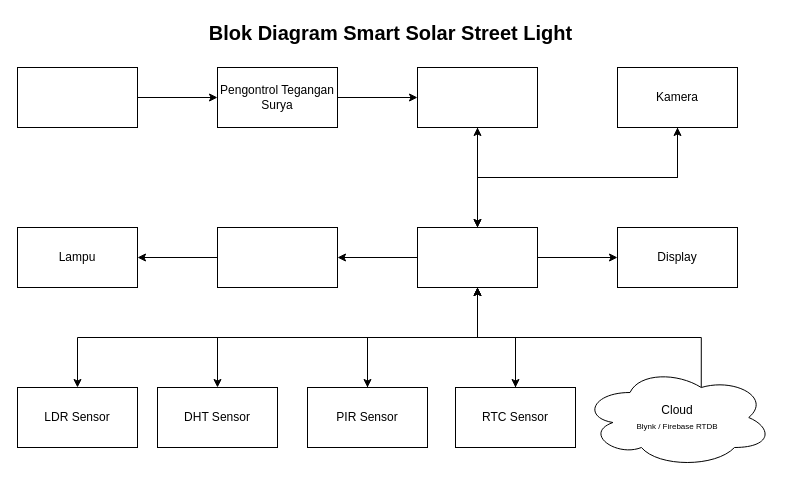
Some shapes in this 790 by 485 pixel diagram are drawn without their labels. Each missing label, with the centre of its shape:
Baterai: (477,97)
ESP32: (477,257)
Panel Surya: (77,97)
Relay Switch: (277,257)
